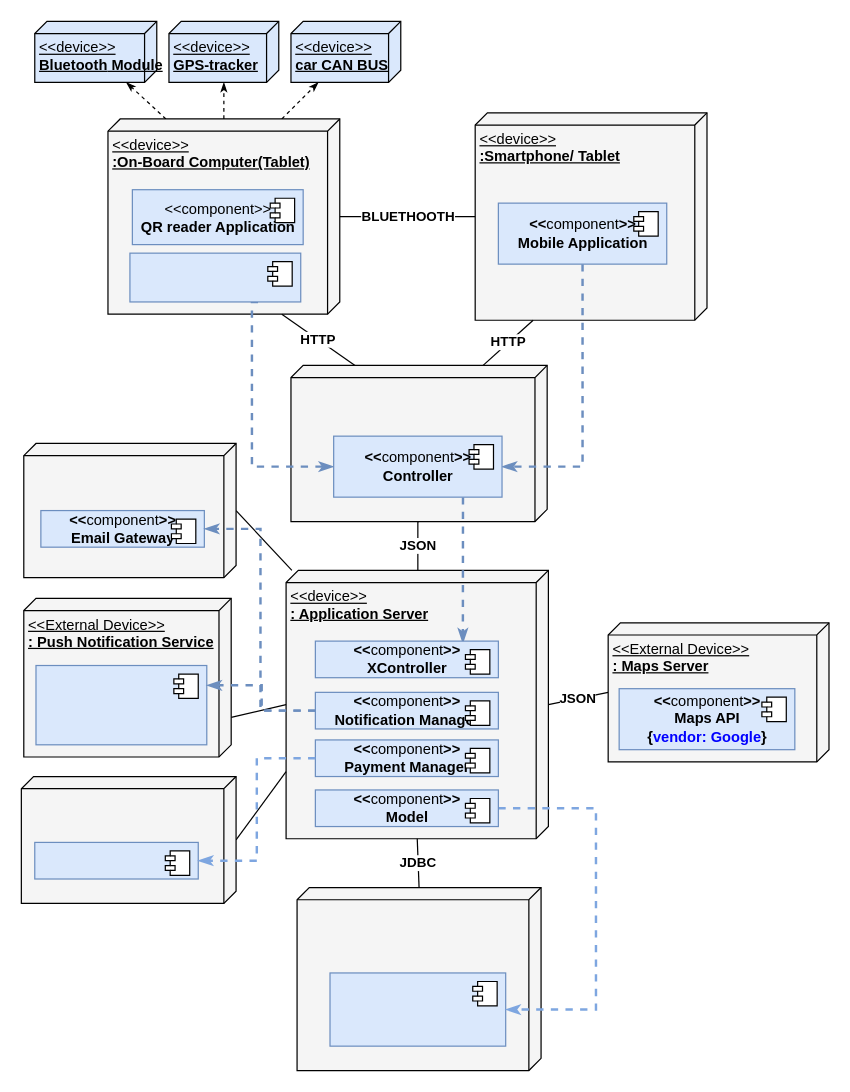
This 850x1092 diagram has some shape labels left out. Each missing label, with the box of its shape:
<< component >> DATABASE { vendor: Oracle }: (329, 972, 506, 1046)
<< component >> Payment Gateway: (34, 841, 198, 879)
<< component >> Push Gateway { vendor : amazon web service AWS }: (35, 664, 207, 745)
<<component>> OnBoard Application: (129, 252, 301, 302)
<<device>> : Database Server: (296, 886, 541, 1071)
<<device>> : Web Server: (290, 364, 547, 522)
<<External Device>> : Email Server: (23, 442, 236, 578)
<<External Device>> : Payment Server Provider: (20, 775, 236, 903)
